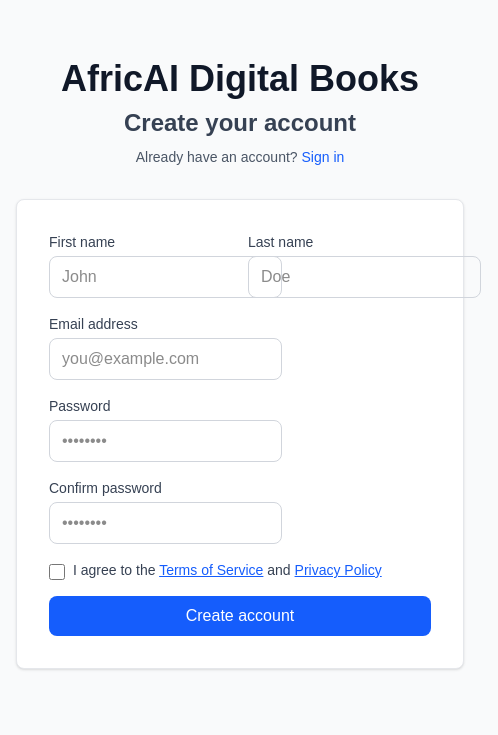
Scenario: RegisterPage › Form Validation › validates required first name
Click the button "Create account": (240, 616) [49,596,431,636]
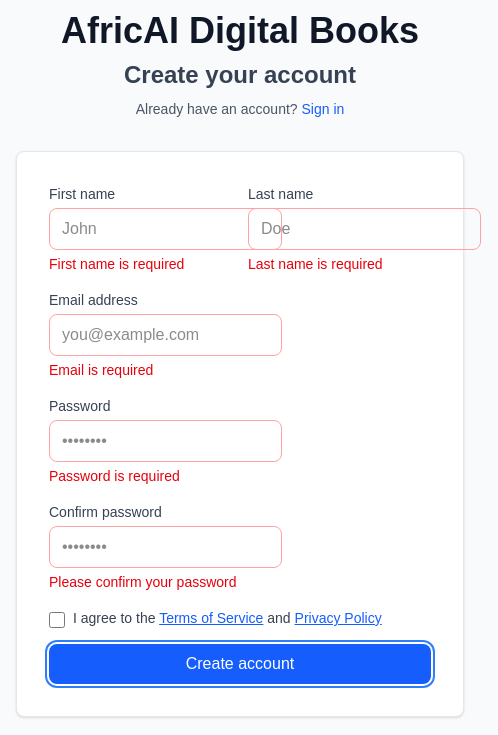
Result: the text "First name is required" is shown at [49,256,184,272]
